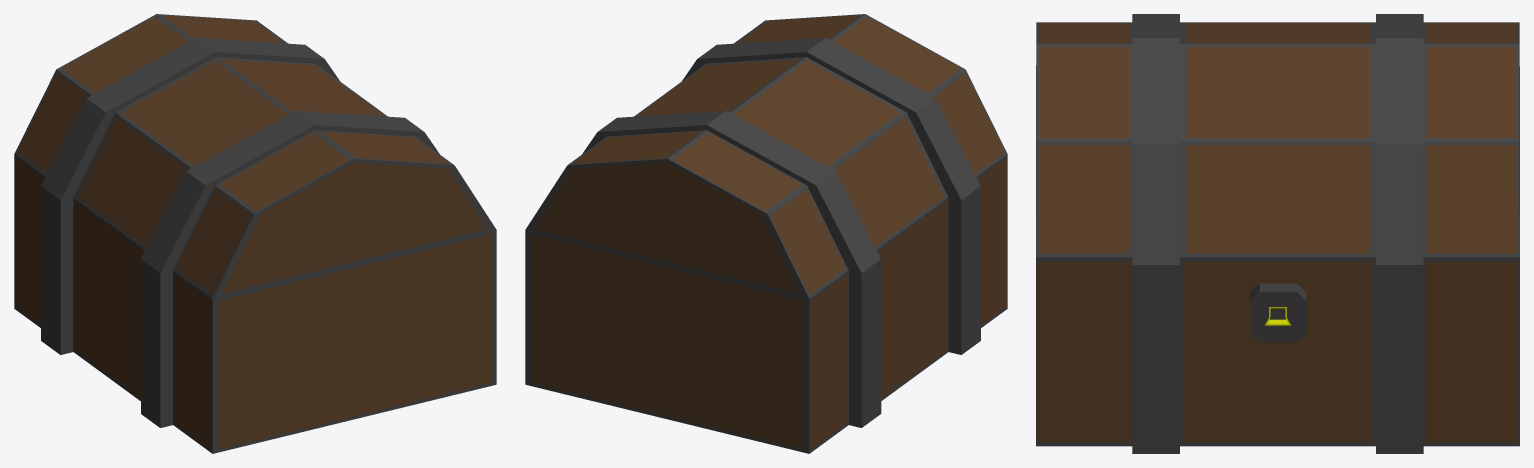
Rendered from Chest2.fbx.
The picture shows the model from 3 angles, left to right: view 1: azimuth 30°, elevation 25°; view 2: azimuth 150°, elevation 25°; view 3: azimuth 270°, elevation 25°; orthographic projection. The views are drawn at different scales.
Parts seen in each view (by area): view 1: Top, Base; view 2: Top, Base; view 3: Top, Base.
Part boxes in pixels (box(x1,y1,x2,y2)): Top: box(14, 14, 496, 298); Base: box(14, 154, 496, 453); Top: box(525, 14, 1007, 298); Base: box(525, 154, 1007, 453); Top: box(1036, 14, 1519, 264); Base: box(1036, 257, 1519, 453).
Size of the model in its own units: 107 by 87.43 by 118.
